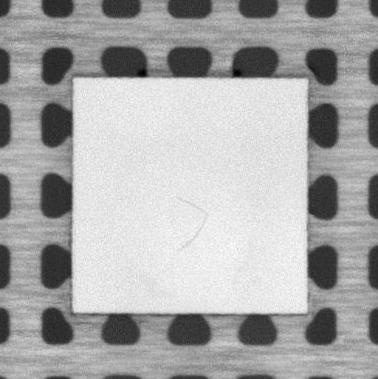DIE_CRACK: (173, 195, 211, 253)
